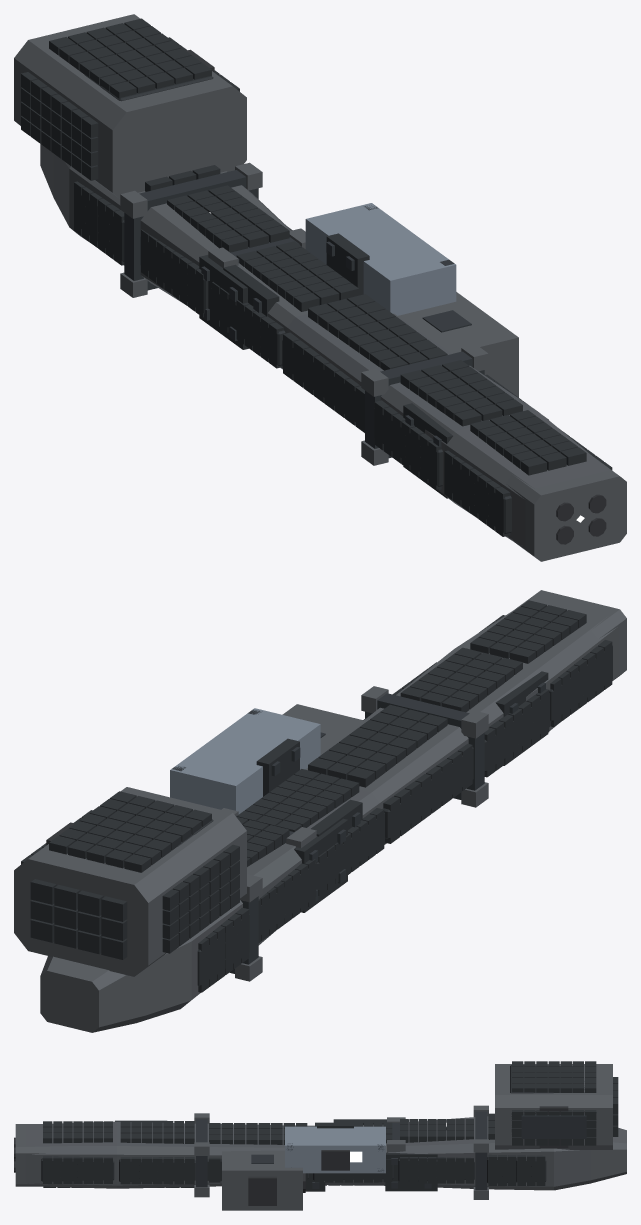
3 views of the same model, one above another, from view 1: azimuth 30°, elevation 25°; view 2: azimuth 150°, elevation 25°; view 3: azimuth 270°, elevation 25° (orthographic). The views are drawn at different scales.
Parts seen in each view (by area): view 1: RIMWARD_HULL; view 2: RIMWARD_HULL; view 3: RIMWARD_HULL.
Part boxes in pixels (x1,y1,x2,y2): RIMWARD_HULL: (14, 14, 626, 561); RIMWARD_HULL: (14, 590, 626, 1032); RIMWARD_HULL: (14, 1061, 626, 1210).
Bounding box in the file's own units: 1.56 × 1.39 × 7.27.
